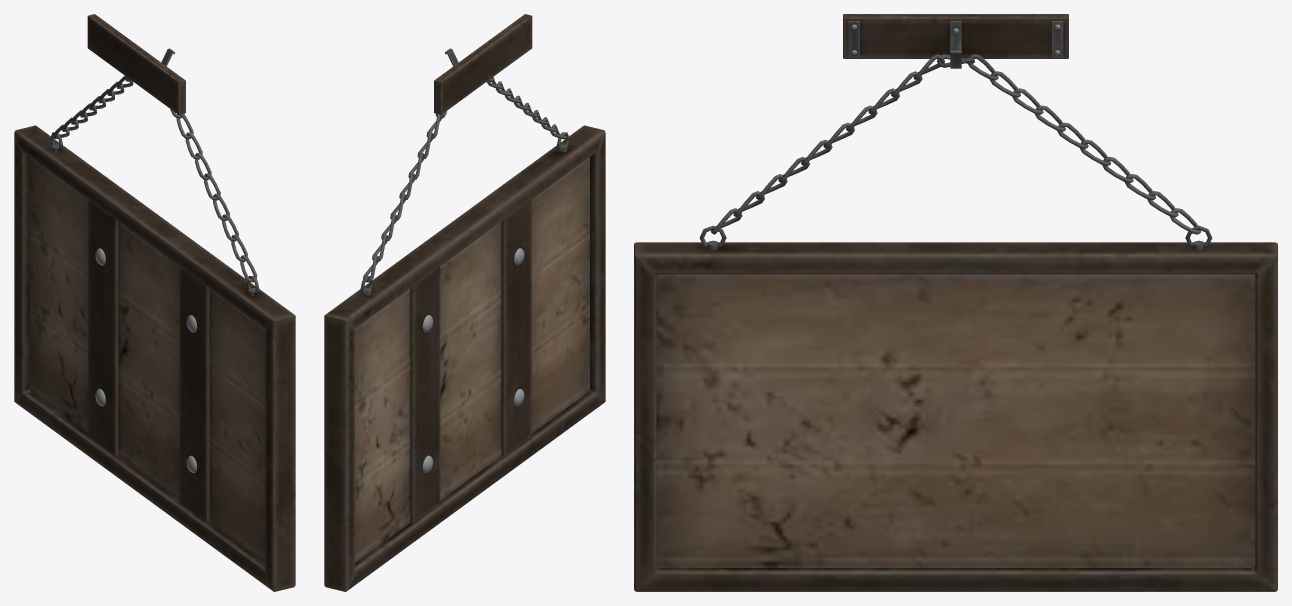
File: SM_HangingSignboard_da030e.glb
3 renders of one model, left to right at view 1: azimuth 30°, elevation 25°; view 2: azimuth 150°, elevation 25°; view 3: azimuth 270°, elevation 25°, orthographic. The views are drawn at different scales.
Bounding box in the file's own units: 0.1115 × 1.2 × 1.25.
1 material, 1 textured.
